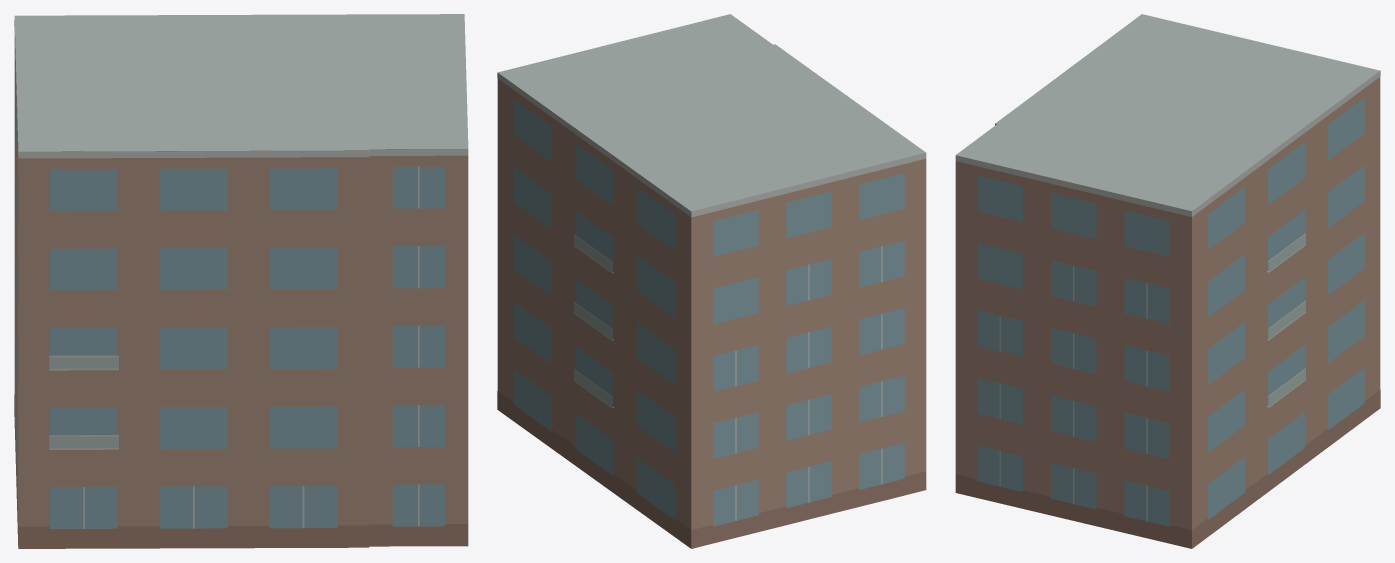
Rendered from survey-upis-32878413.glb.
The picture shows the model from 3 angles, left to right: view 1: azimuth 30°, elevation 25°; view 2: azimuth 150°, elevation 25°; view 3: azimuth 270°, elevation 25°; orthographic projection. The views are drawn at different scales.
Visible parts, largest first — view 1: survey-upis-32878413.tmp; view 2: survey-upis-32878413.tmp; view 3: survey-upis-32878413.tmp.
Boxes of the visible parts, bbox=[...] form: survey-upis-32878413.tmp: bbox=[14, 14, 468, 548]; survey-upis-32878413.tmp: bbox=[497, 14, 926, 548]; survey-upis-32878413.tmp: bbox=[955, 14, 1380, 548].
Bounding box in the file's own units: 17.67 × 14.1 × 16.09.
